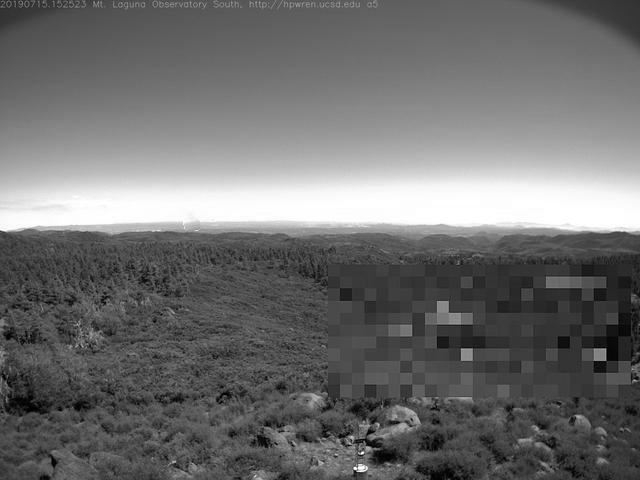smoke: (184, 212, 202, 233)
